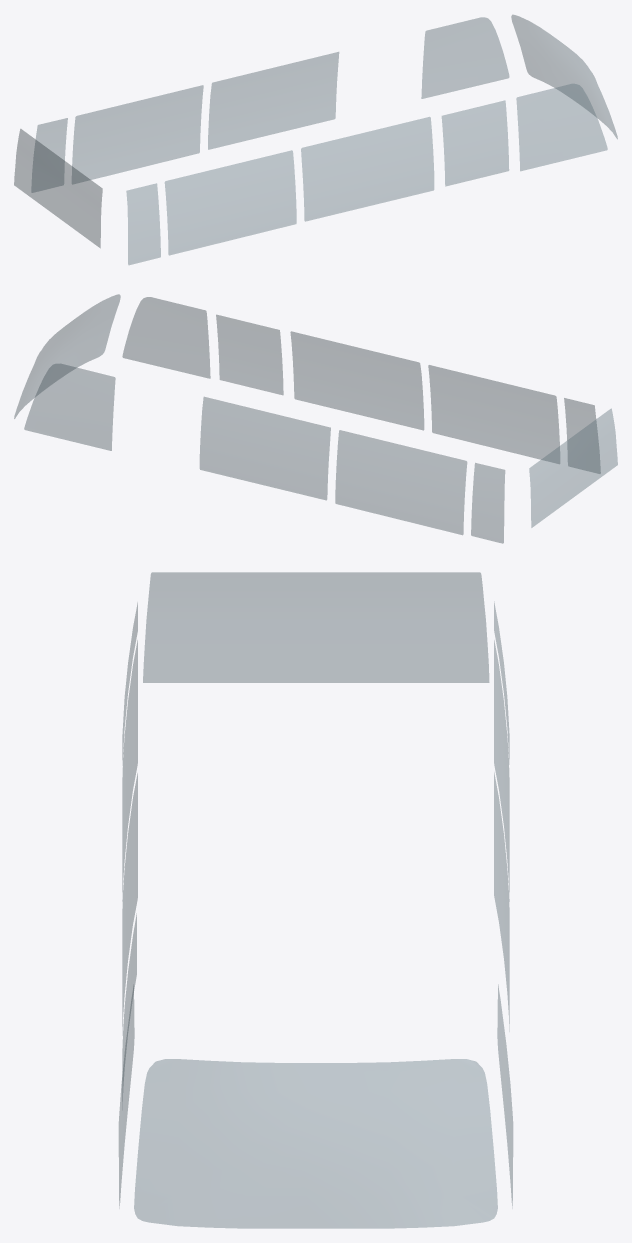
3 renders of one model, top to bottom at view 1: azimuth 30°, elevation 25°; view 2: azimuth 150°, elevation 25°; view 3: azimuth 270°, elevation 25°, orthographic. The views are drawn at different scales.
Visible parts, largest first — view 1: SM_MitsubishiFusoRosa_Glass_Int2; view 2: SM_MitsubishiFusoRosa_Glass_Int2; view 3: SM_MitsubishiFusoRosa_Glass_Int2.
Part boxes in pixels (x1=…): SM_MitsubishiFusoRosa_Glass_Int2: x1=14, y1=15, x2=617, y2=264; SM_MitsubishiFusoRosa_Glass_Int2: x1=14, y1=294, x2=617, y2=543; SM_MitsubishiFusoRosa_Glass_Int2: x1=119, y1=572, x2=512, y2=1228.
Size of the model in its own units: 7.77 by 1.09 by 2.53.
